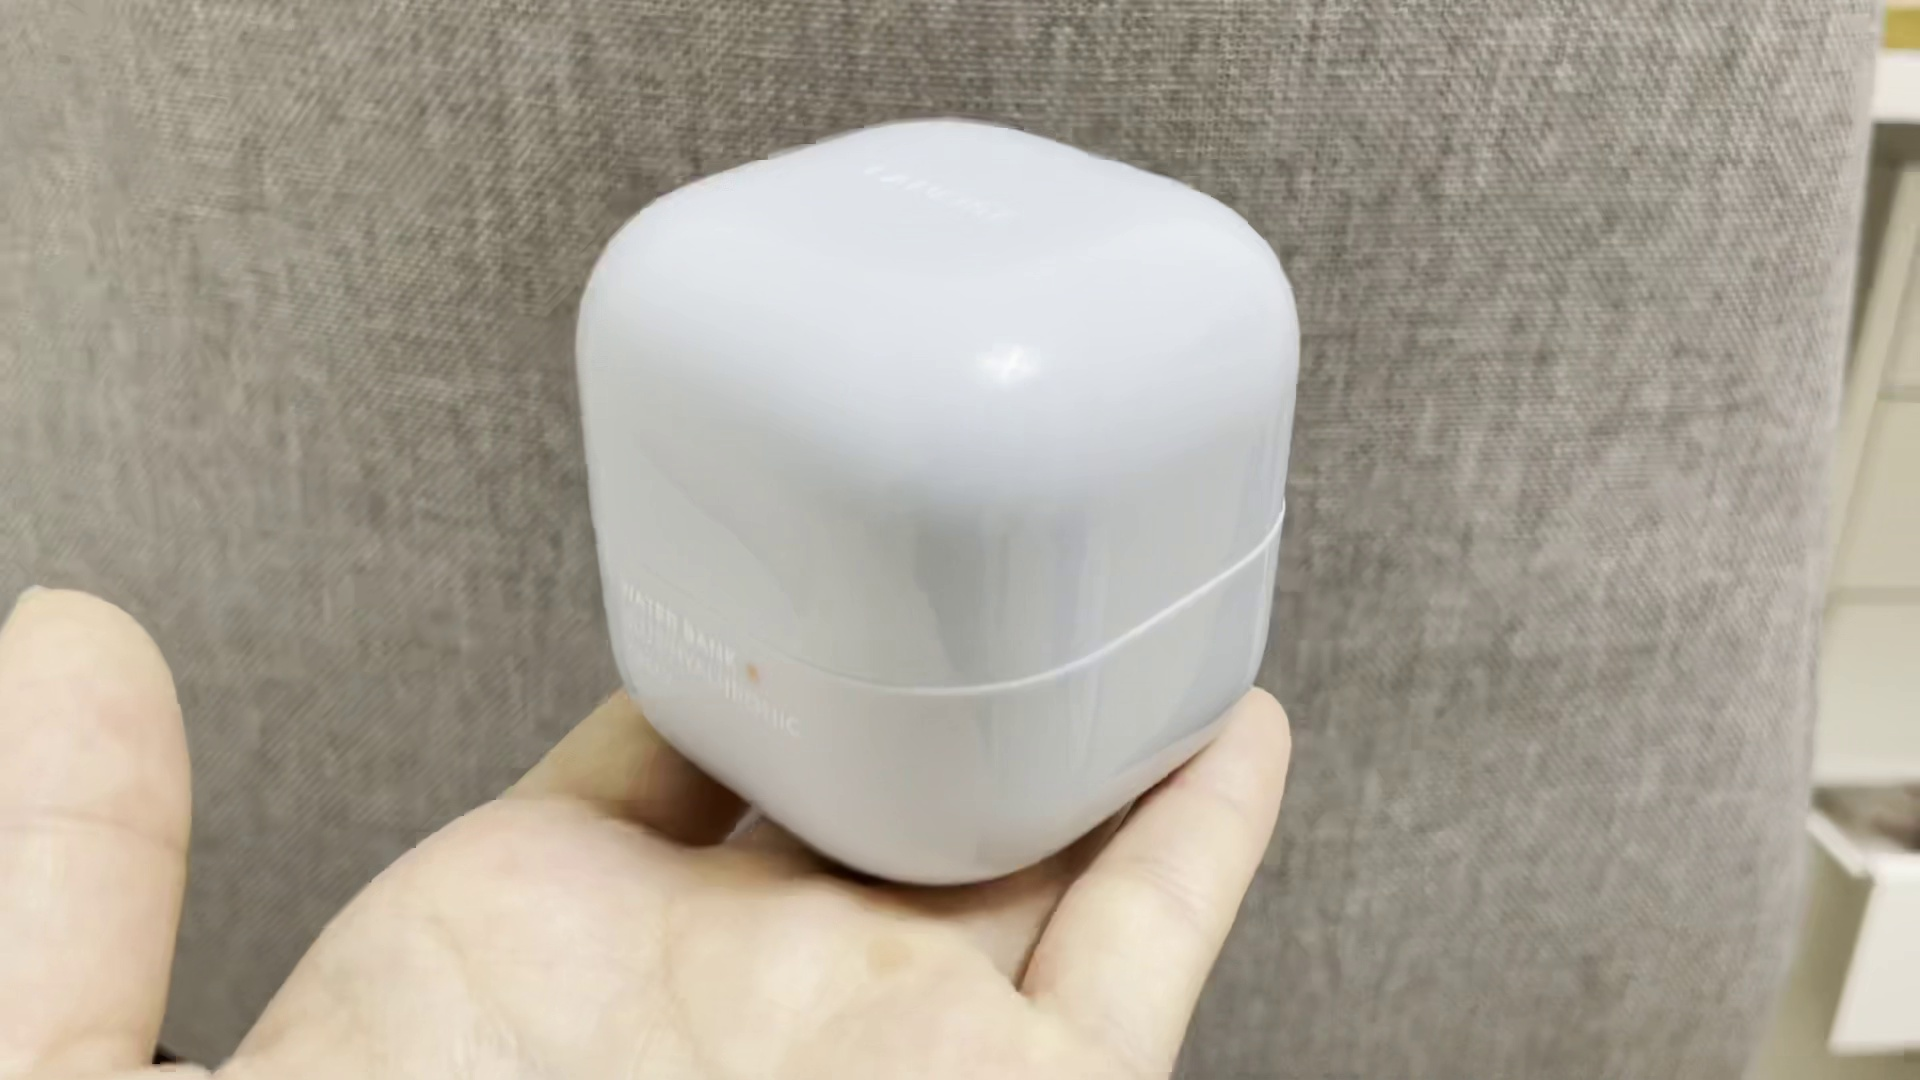cream: (580, 117, 1296, 882)
